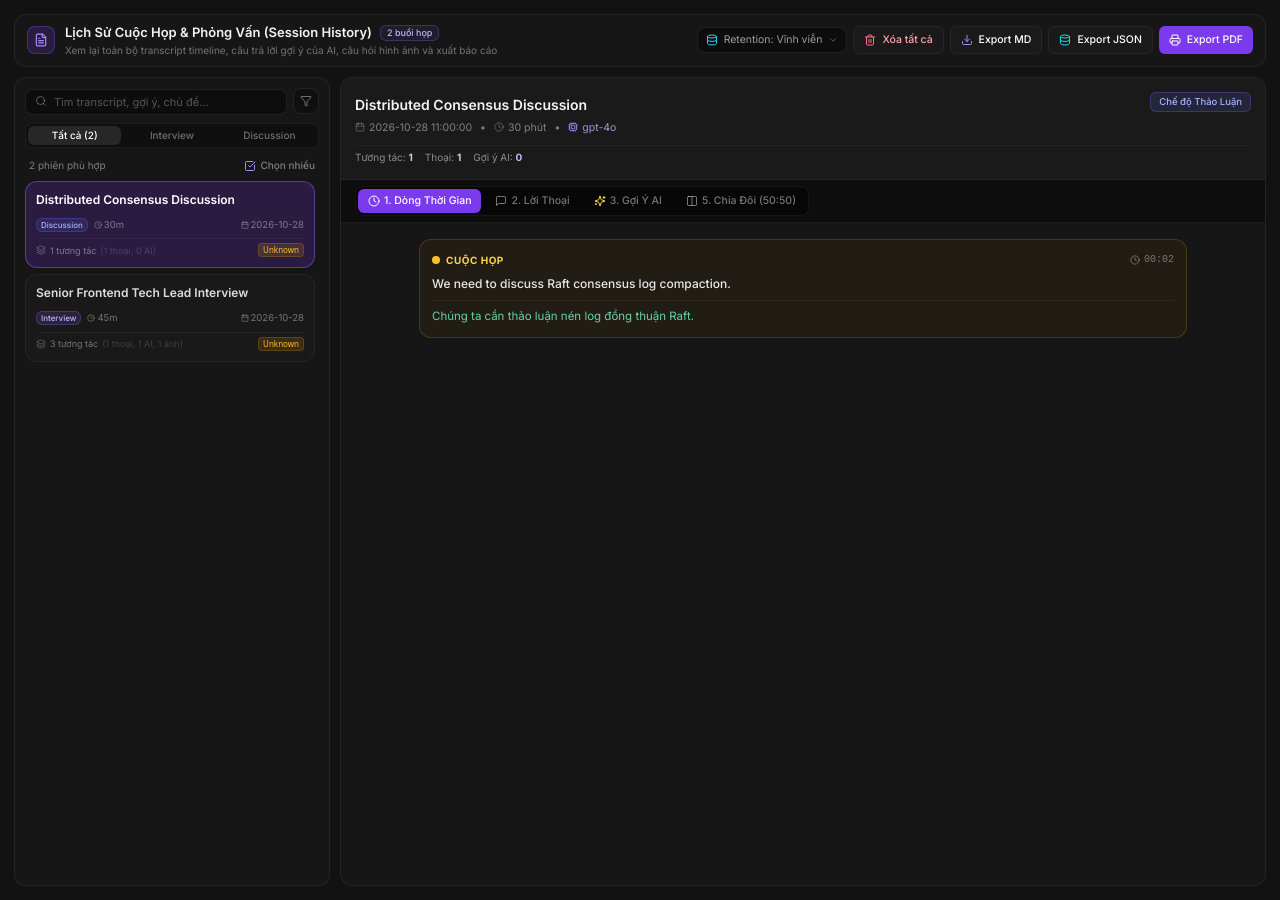
Scenario: SessionHistory Screen Smoke Tests › navigates detail view tabs: timeline, transcript, suggestions, screenshots, split
This screenshot has width=1280, height=900.
Switch to sess-alpha first so we have transcripts, suggestions and screenshots
Click the text "Senior Frontend Tech Lead Interview": (142, 294) [36,285,248,302]
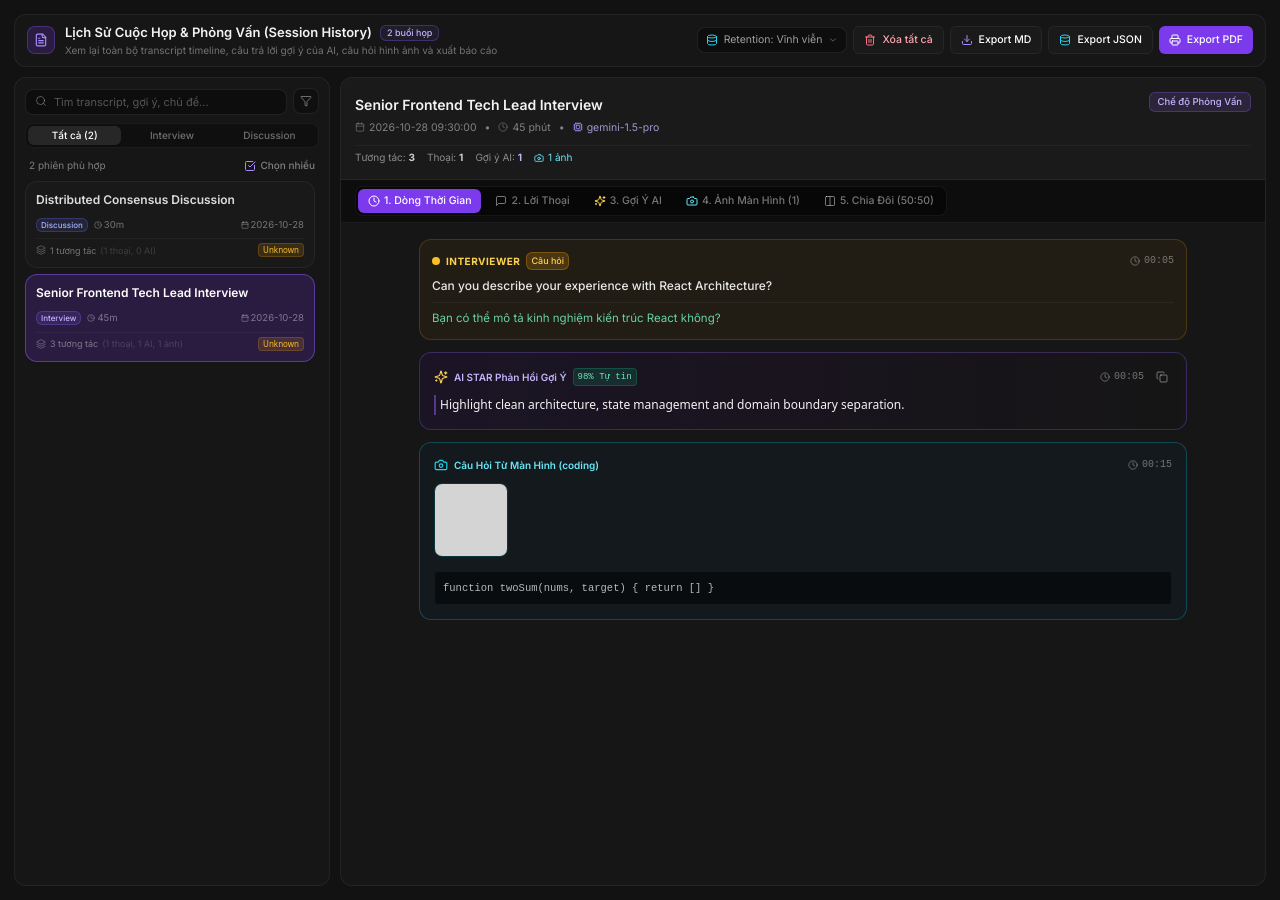
Switch to Transcript tab
Click the button "2. Lời Thoại": (533, 201) [486,189,580,213]
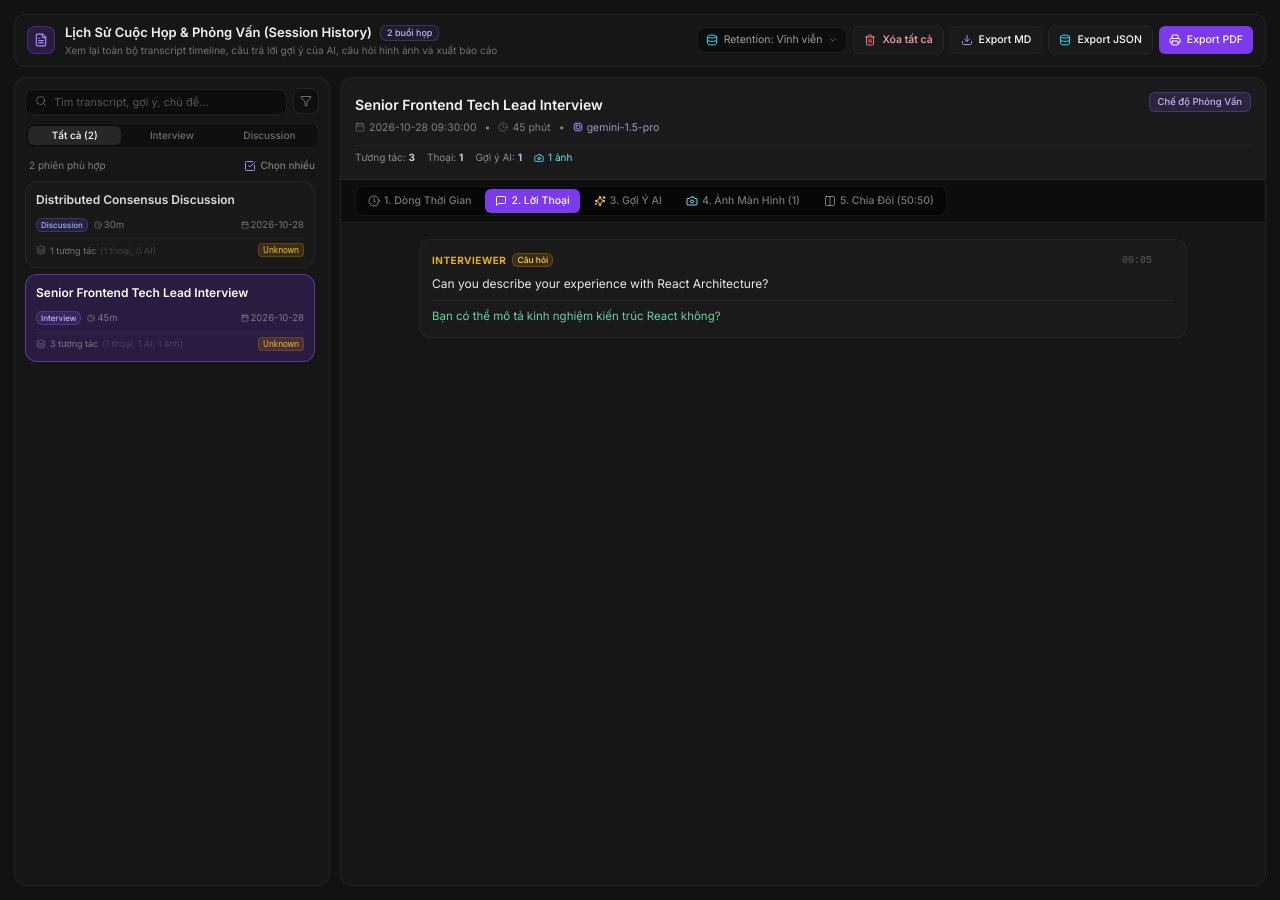
Check: the text "Can you describe your experience with React Architecture?" is shown, box [432,276,768,291]
Switch to Suggestions tab
Click the button "3. Gợi Ý AI": (628, 201) [584,189,672,213]
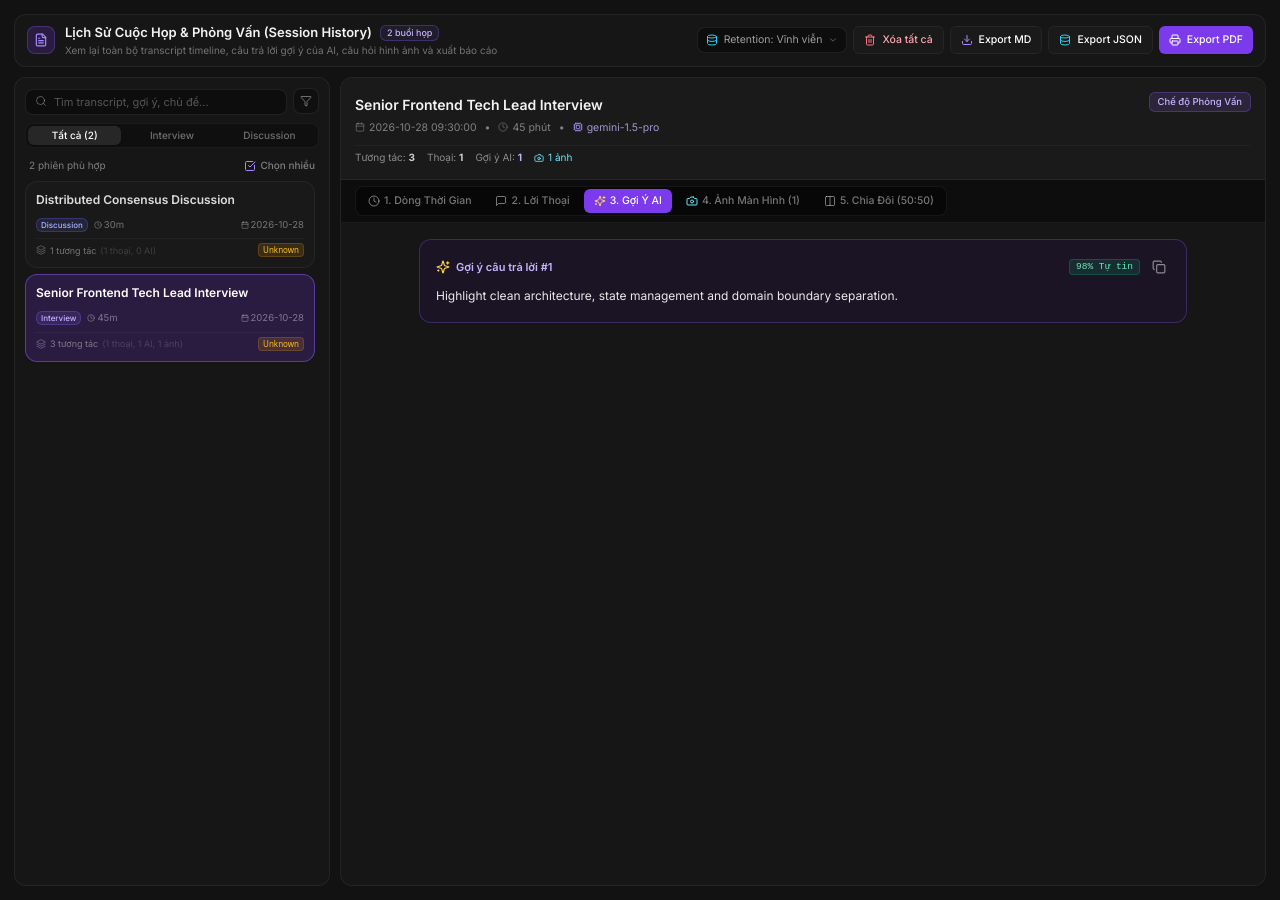
Check: the text "Highlight clean architecture" is shown, box [436,288,898,303]
Switch to Screenshots tab
Click the button "4. Ảnh Màn Hình (1)": (743, 201) [676,189,810,213]
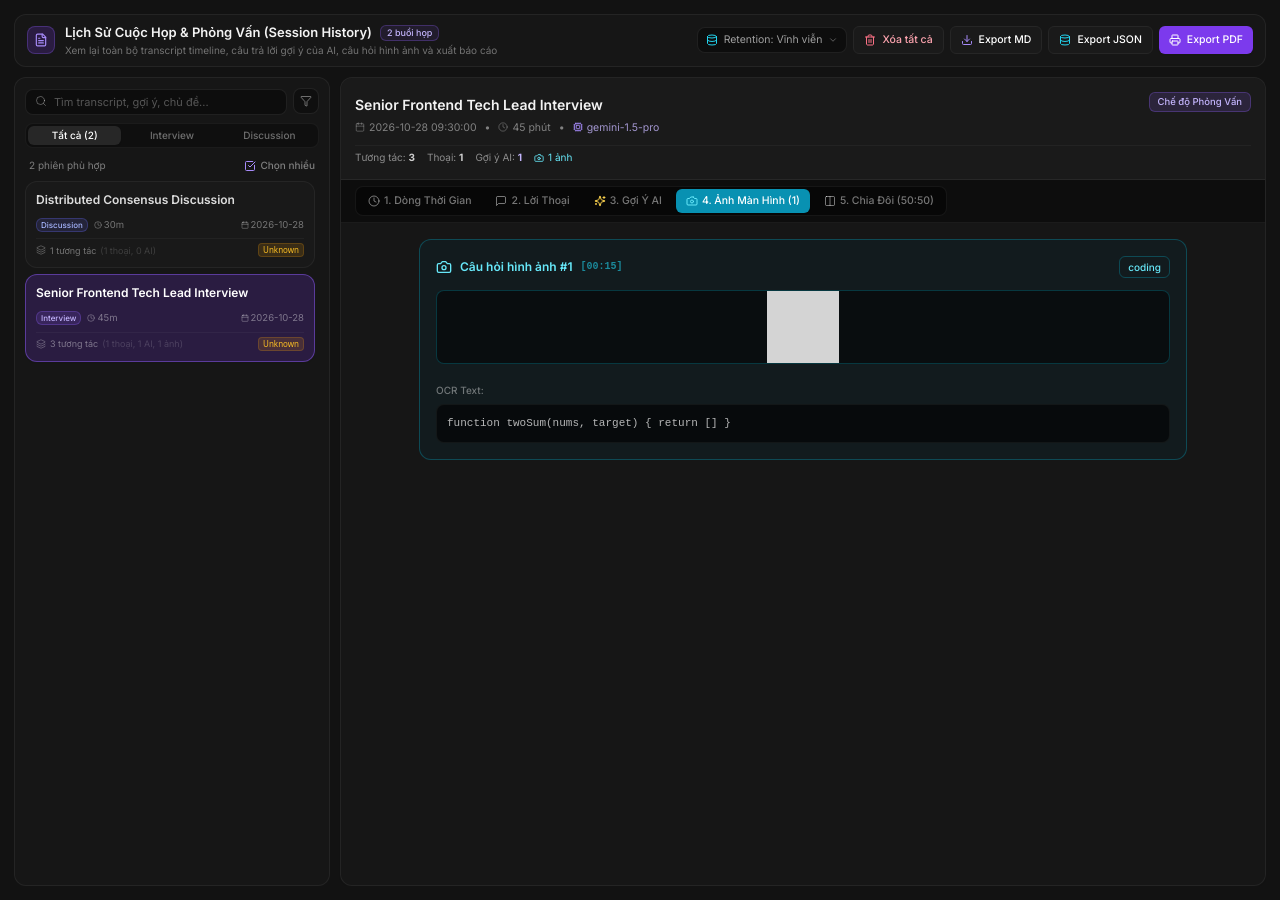
Check: the text "function twoSum(nums, target) { return [] }" is shown, box [436,404,1170,442]
Switch to Split tab
Click the button "5. Chia Đôi (50:50)": (879, 201) [814,189,944,213]
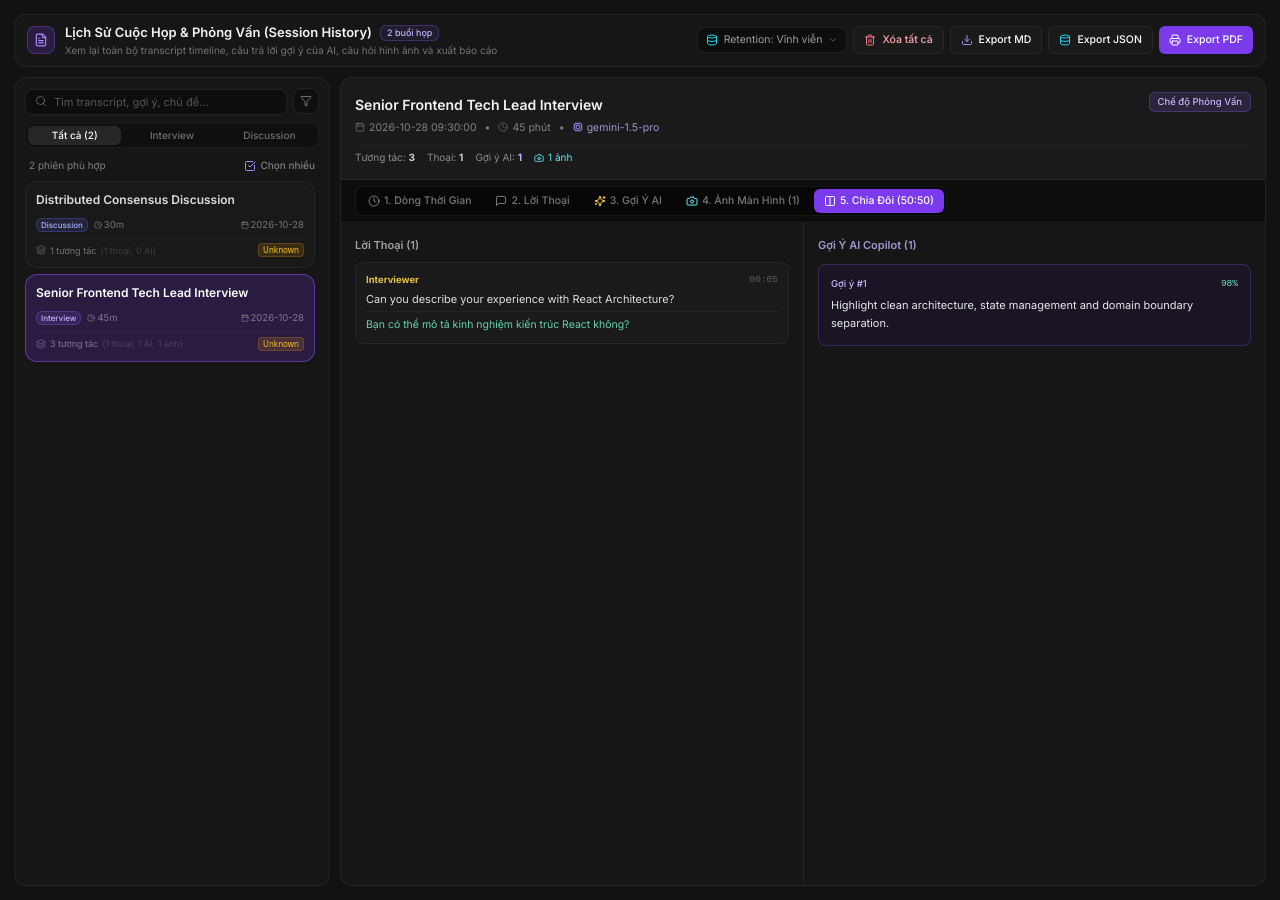
Check: the text "Lời Thoại (1)" is shown, box [355,238,419,252]
